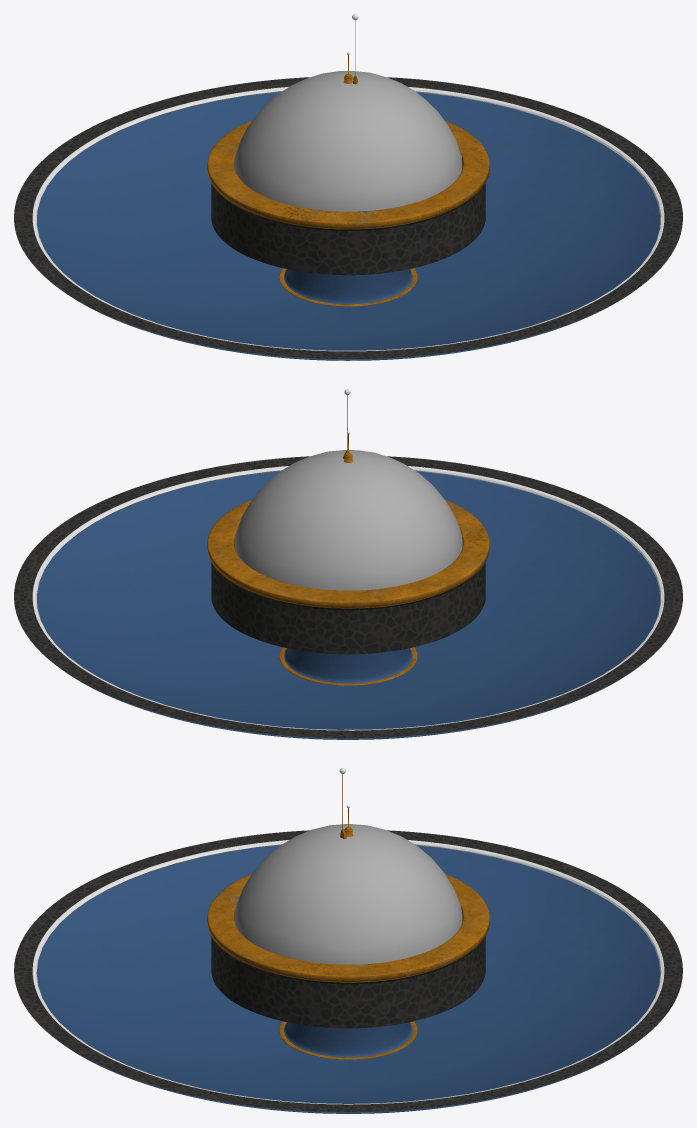
The model's file is ufo.glb.
3 views of the same model, one above another, from view 1: azimuth 30°, elevation 25°; view 2: azimuth 150°, elevation 25°; view 3: azimuth 270°, elevation 25° (orthographic).
Parts seen in each view (by area): view 1: Material_013-material, Material_012-material, Material_007-material, Material_001-material, Material_014-material; view 2: Material_013-material, Material_012-material, Material_007-material, Material_001-material, Material_014-material; view 3: Material_013-material, Material_012-material, Material_007-material, Material_001-material, Material_014-material.
Boxes of the visible parts, x1,y1,x2,y2 form: Material_013-material: [37, 92, 660, 360]; Material_012-material: [14, 77, 682, 358]; Material_007-material: [234, 71, 462, 211]; Material_001-material: [207, 20, 489, 306]; Material_014-material: [32, 86, 664, 351]; Material_013-material: [37, 471, 659, 739]; Material_012-material: [14, 456, 682, 738]; Material_007-material: [234, 450, 462, 590]; Material_001-material: [207, 395, 489, 685]; Material_014-material: [32, 466, 664, 730]; Material_013-material: [36, 845, 660, 1113]; Material_012-material: [14, 830, 682, 1112]; Material_007-material: [234, 824, 462, 964]; Material_001-material: [207, 774, 489, 1059]; Material_014-material: [32, 840, 664, 1104].
Size of the model in its own units: 2.57 by 1.15 by 2.57.
Materials: 9 (2 with a texture image).
